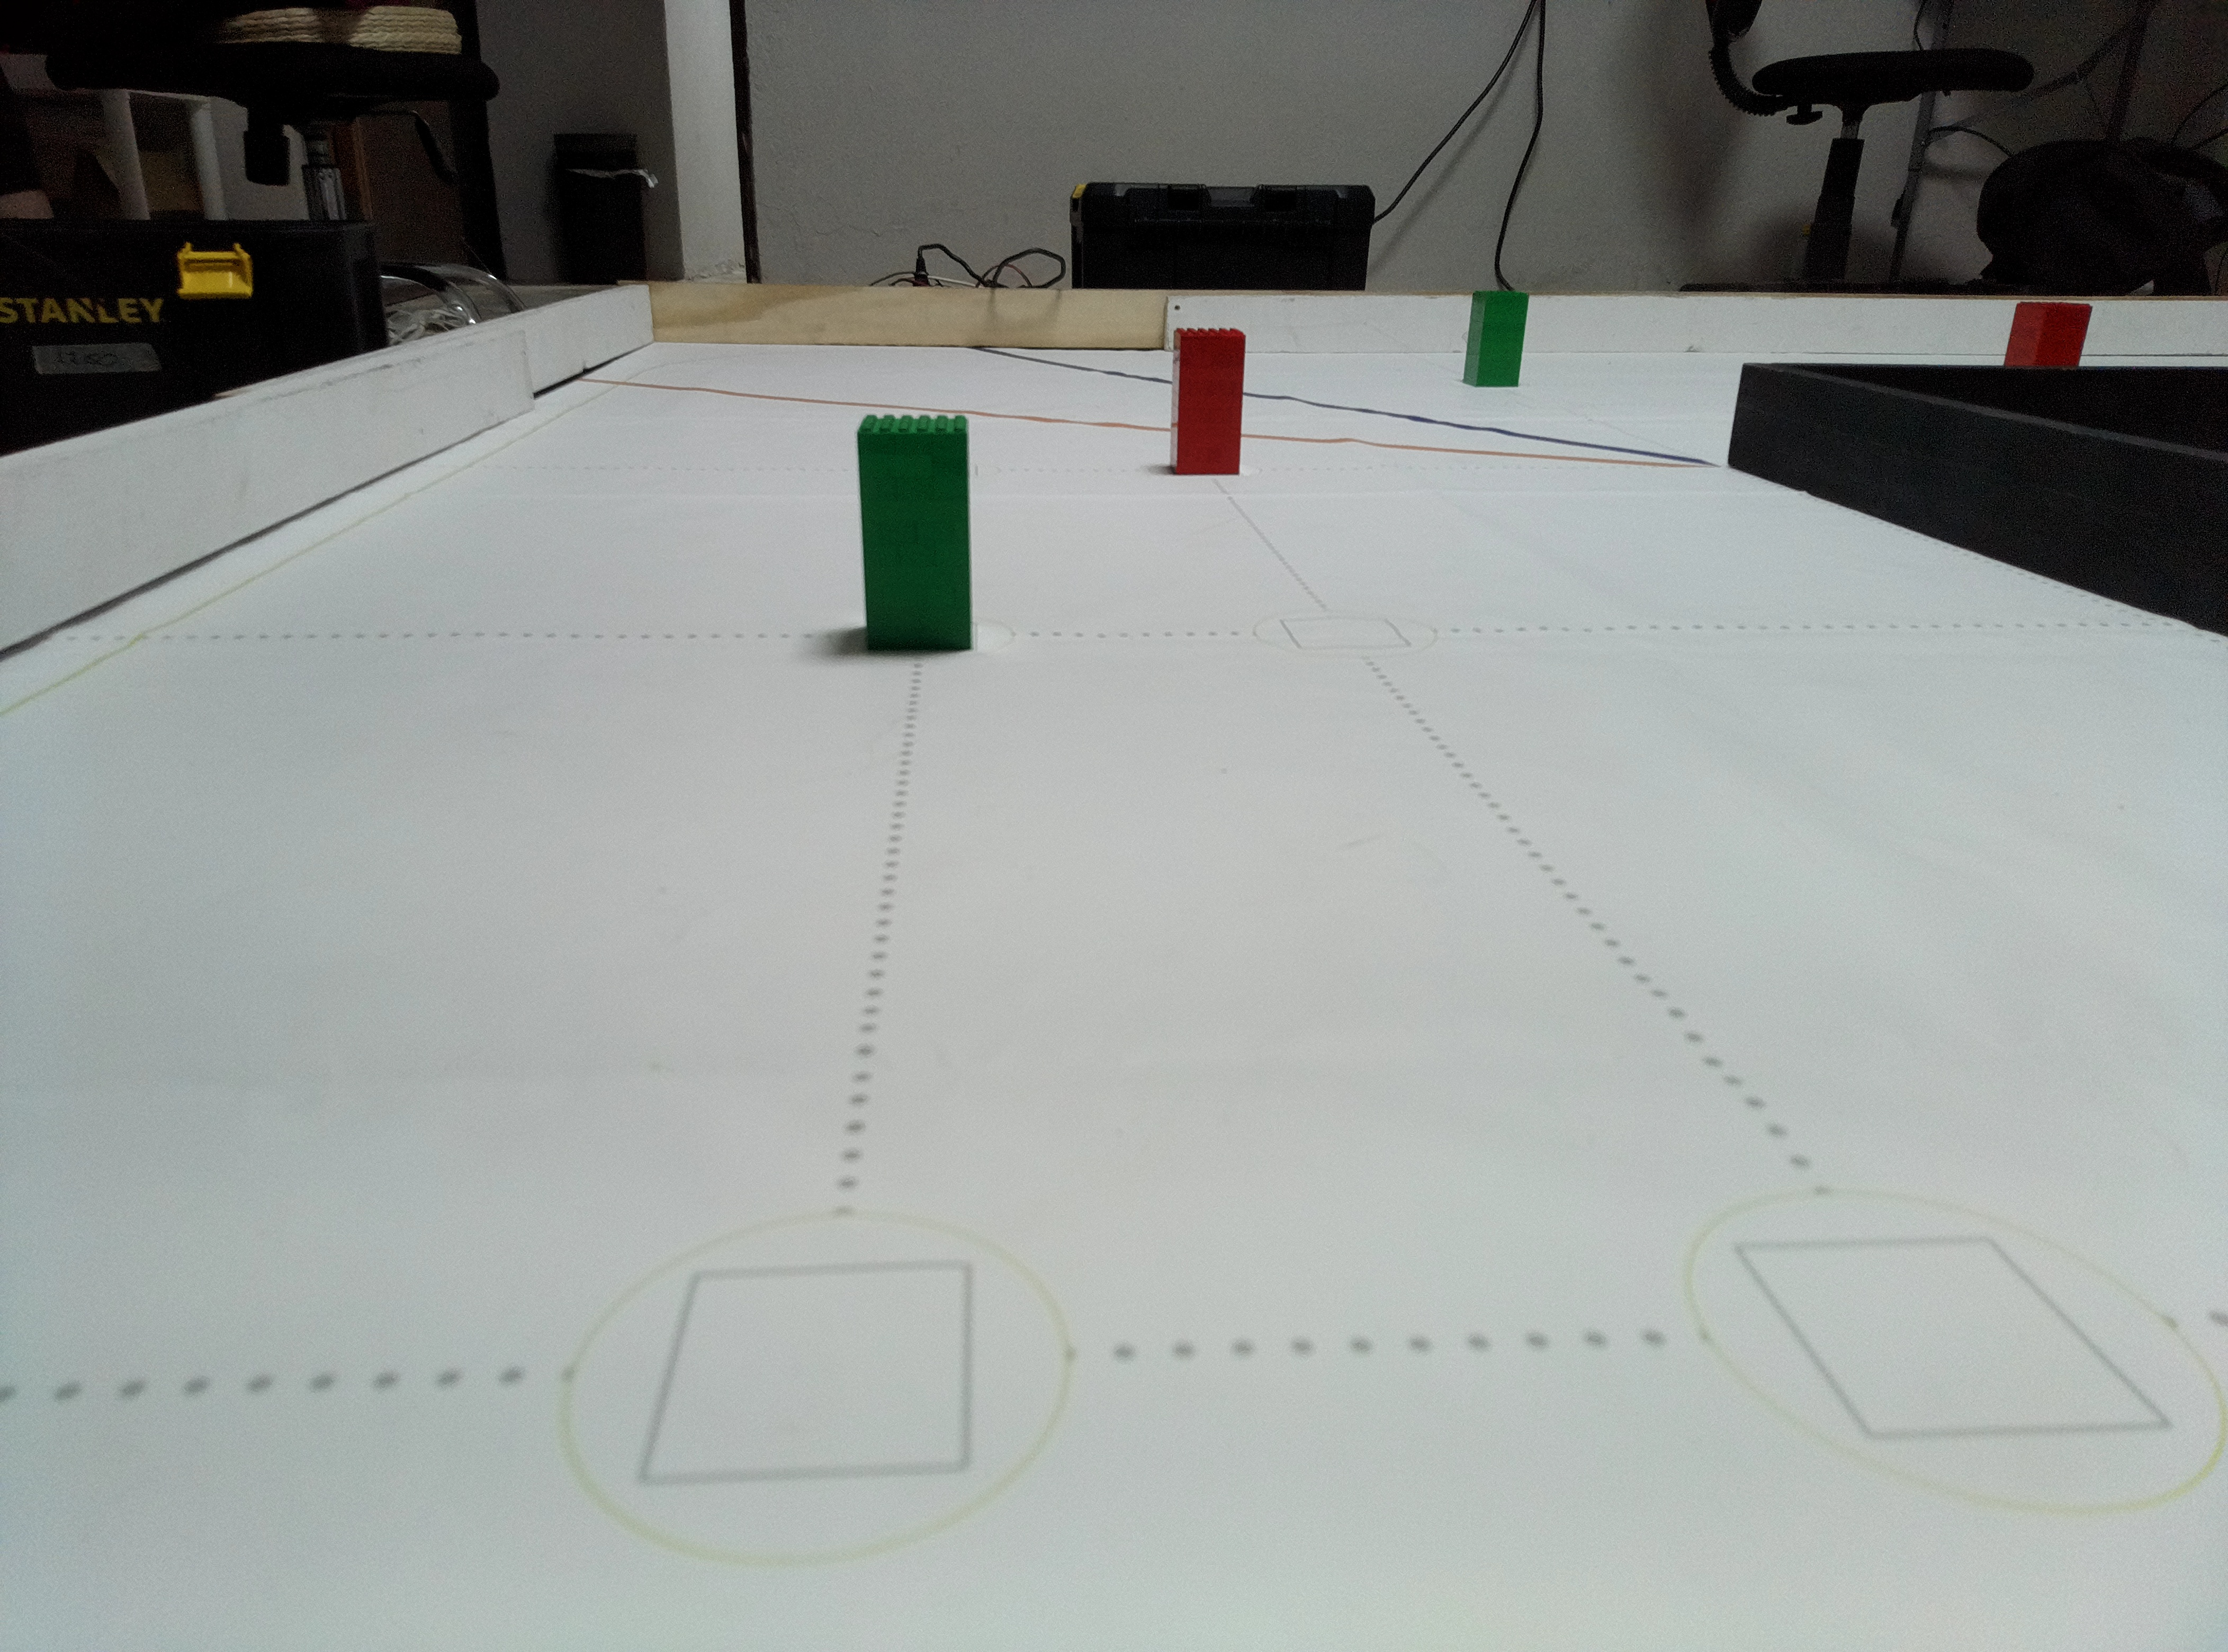greenbox: (854, 410, 973, 658), (1459, 288, 1532, 387)
redbox: (1170, 326, 1246, 475), (1997, 302, 2094, 366)
